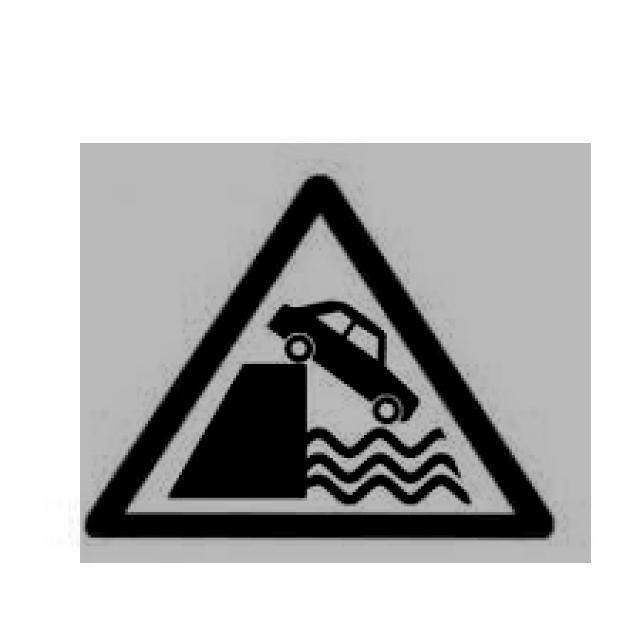quay side or river bank: (90, 173, 552, 543)
